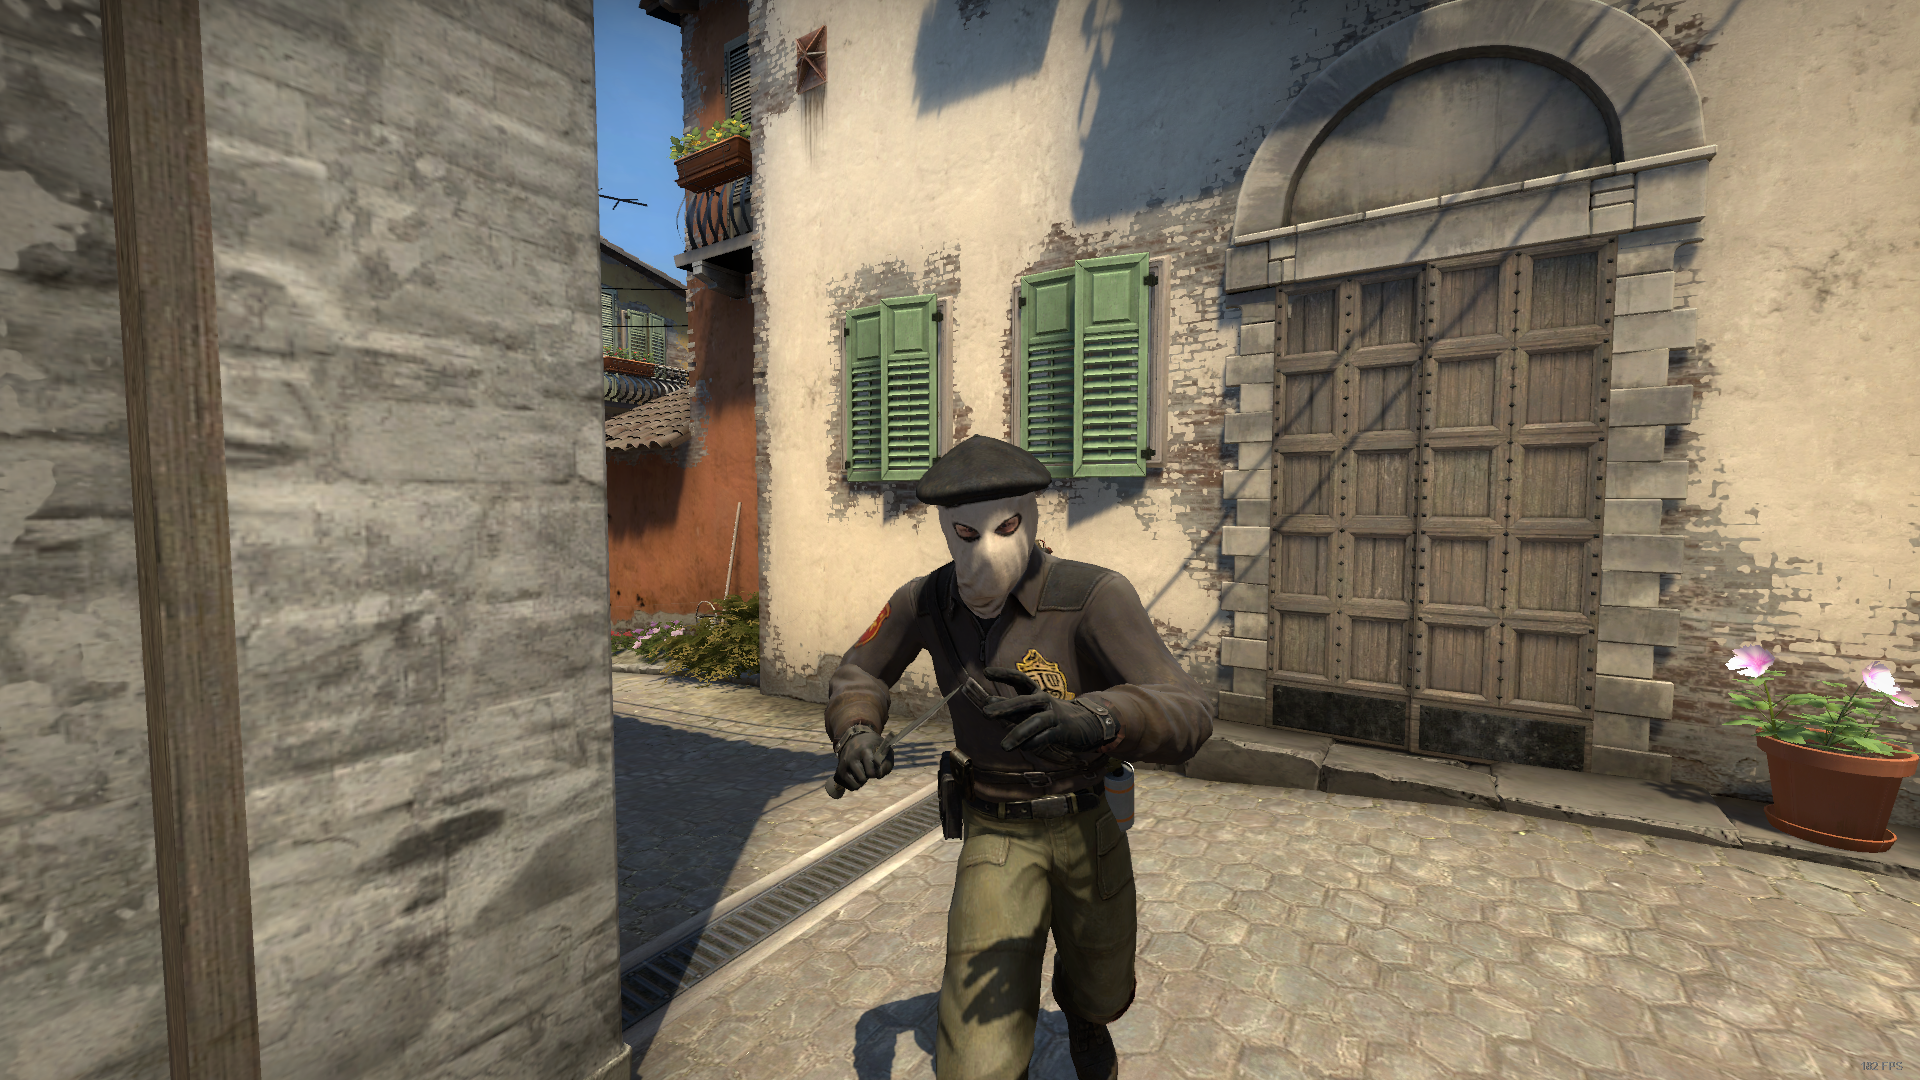t: (824, 433, 1213, 1080)
